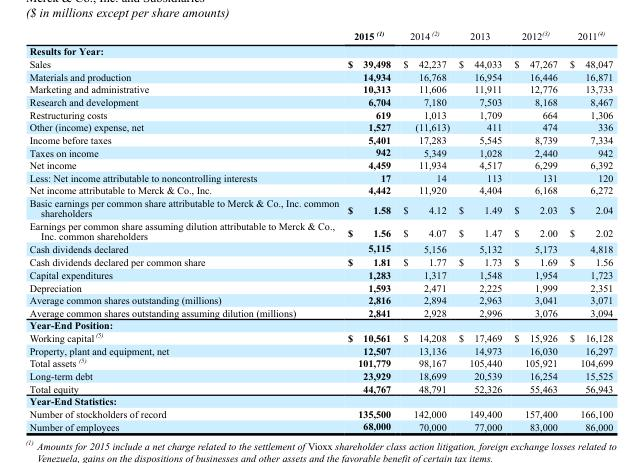table: (28, 28, 612, 431)
table column: (28, 28, 342, 431), (396, 28, 453, 431), (507, 28, 562, 431), (342, 28, 396, 431), (453, 28, 507, 431), (562, 28, 612, 431)
table column header: (28, 28, 612, 43)
table projected row header: (28, 43, 612, 57), (28, 394, 612, 407), (28, 318, 612, 330)
table row: (28, 196, 612, 219), (28, 219, 612, 241), (28, 28, 612, 43), (28, 43, 612, 57), (28, 241, 612, 255), (28, 330, 612, 344), (28, 57, 612, 70), (28, 82, 612, 95), (28, 107, 612, 120), (28, 120, 612, 133), (28, 145, 612, 158), (28, 158, 612, 171), (28, 183, 612, 196), (28, 255, 612, 268), (28, 280, 612, 293), (28, 293, 612, 306), (28, 356, 612, 369), (28, 381, 612, 394), (28, 394, 612, 407), (28, 70, 612, 82), (28, 95, 612, 107), (28, 133, 612, 145), (28, 171, 612, 183), (28, 268, 612, 280), (28, 306, 612, 318), (28, 318, 612, 330), (28, 344, 612, 356), (28, 369, 612, 381), (28, 407, 612, 419), (28, 419, 612, 431)
